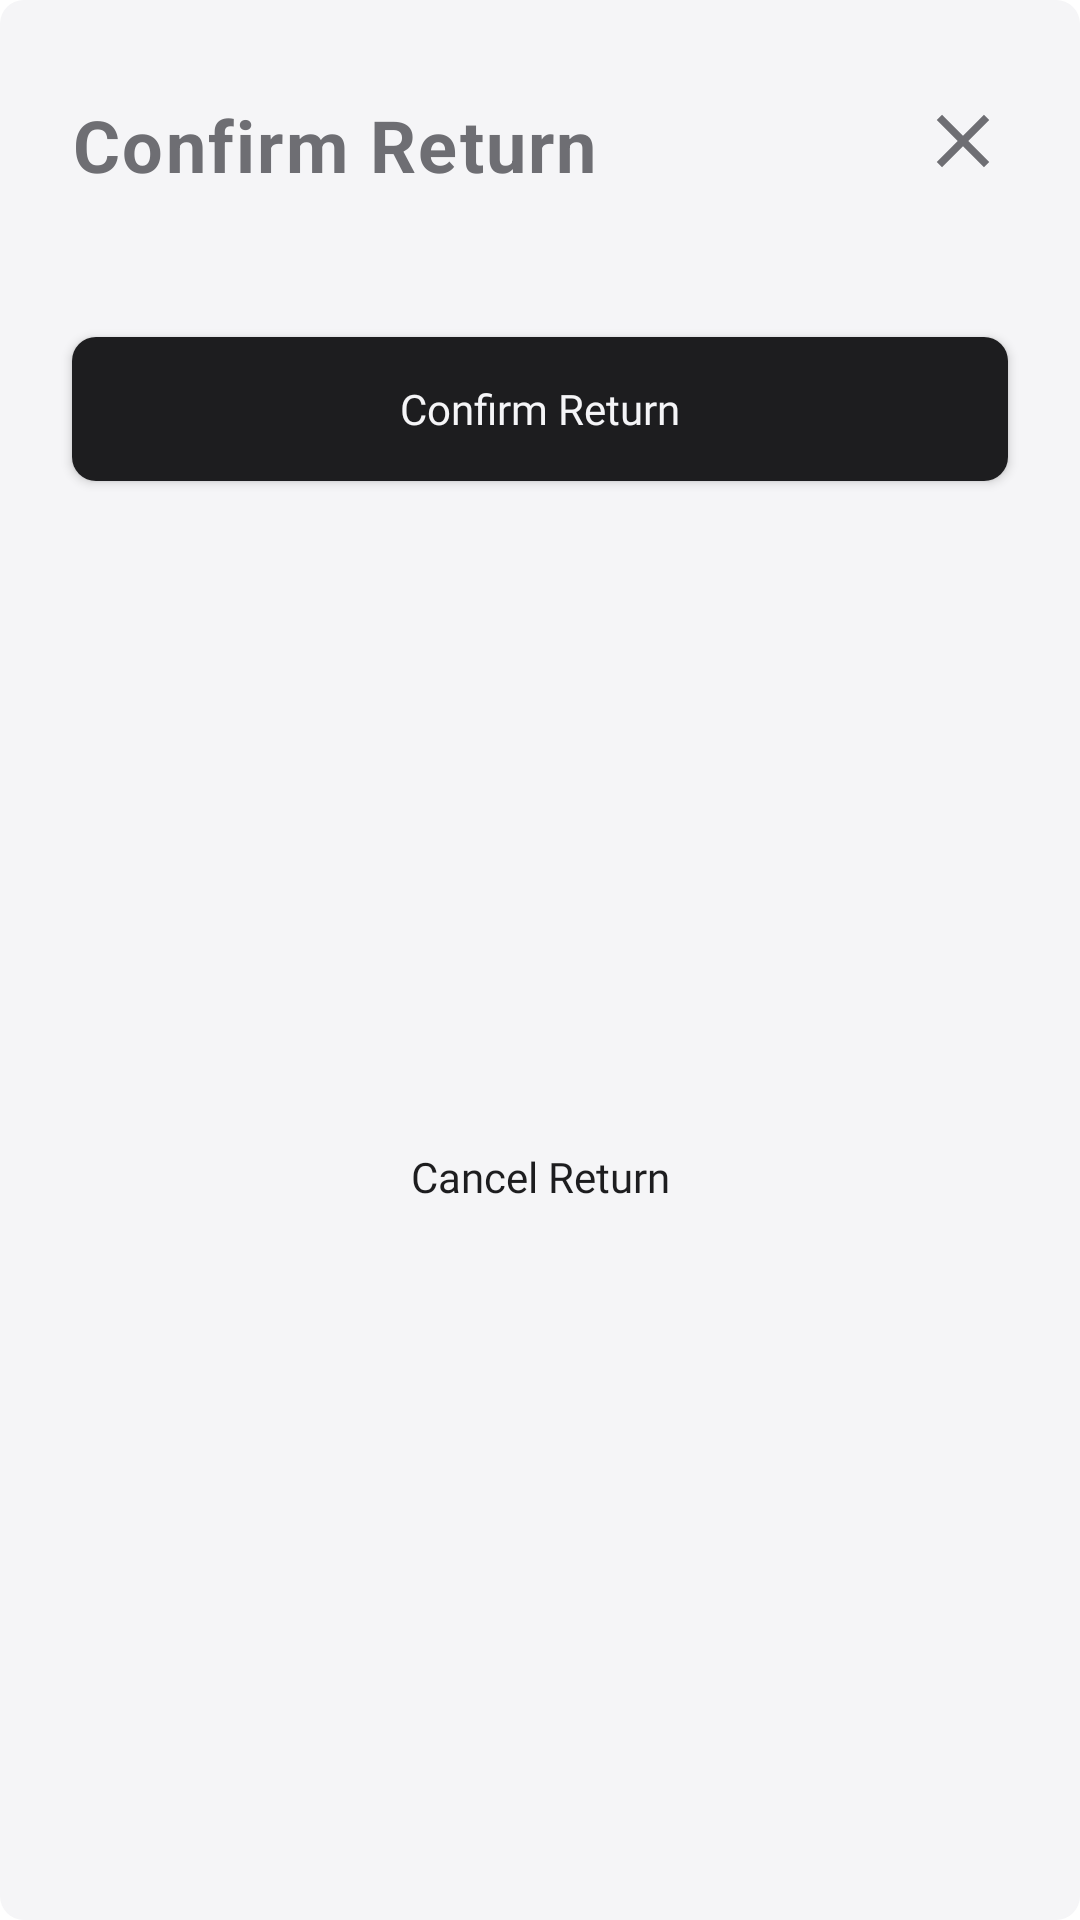

Icon bounding boxes for this 1080 × 1920 phone screenshot, format (x1, y1, x2, y2):
close: (937, 115, 989, 167)
